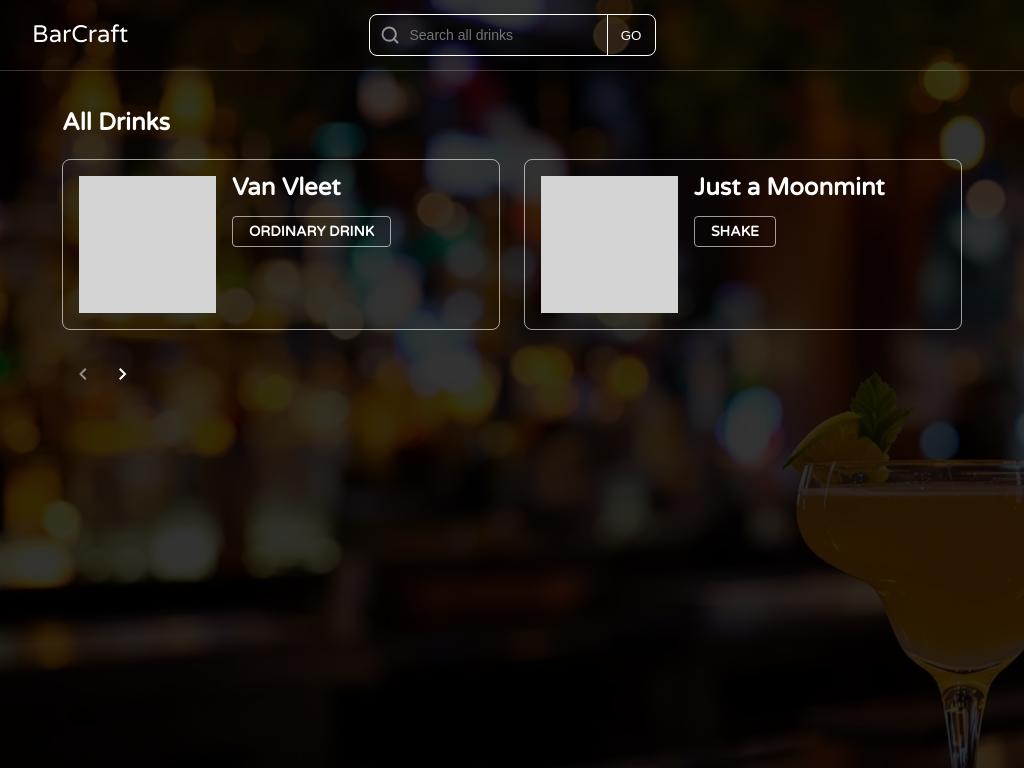
App Component › handles pagination correctly
Simulate clicking the "Next" button
Click the 2nd button with alt text "Next Page". click: [122, 376]
box: [102, 354, 142, 397]
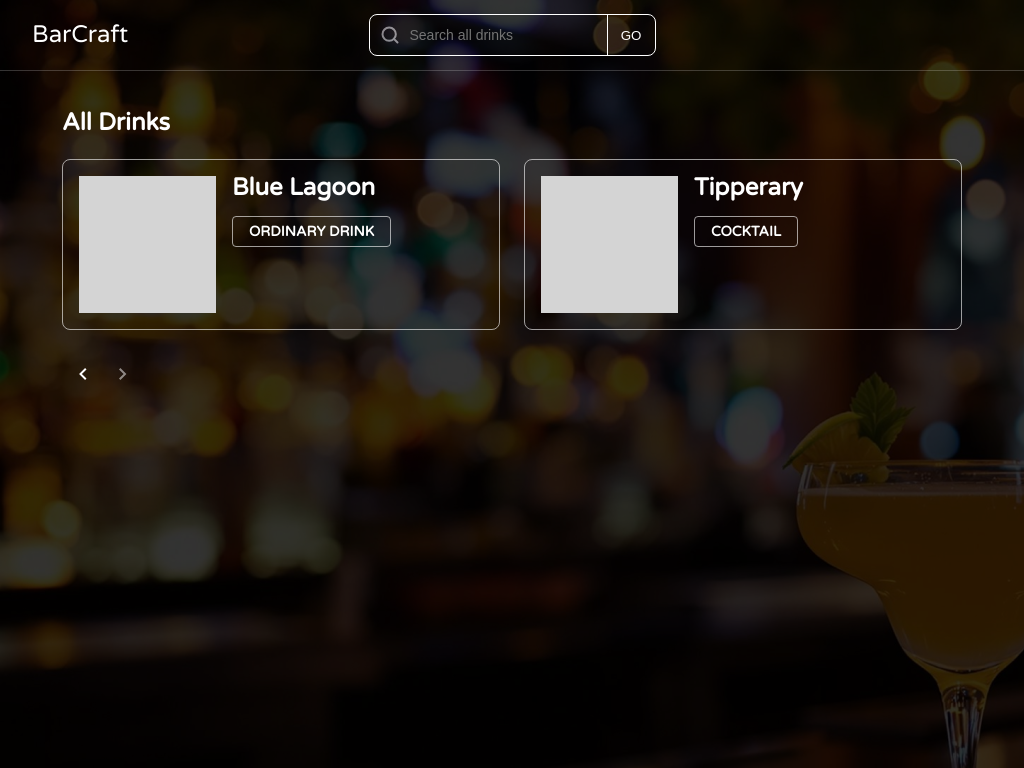
Result: the heading "Blue Lagoon" is shown at [232, 176, 391, 200]
Result: the heading "Tipperary" is shown at [694, 176, 803, 200]
